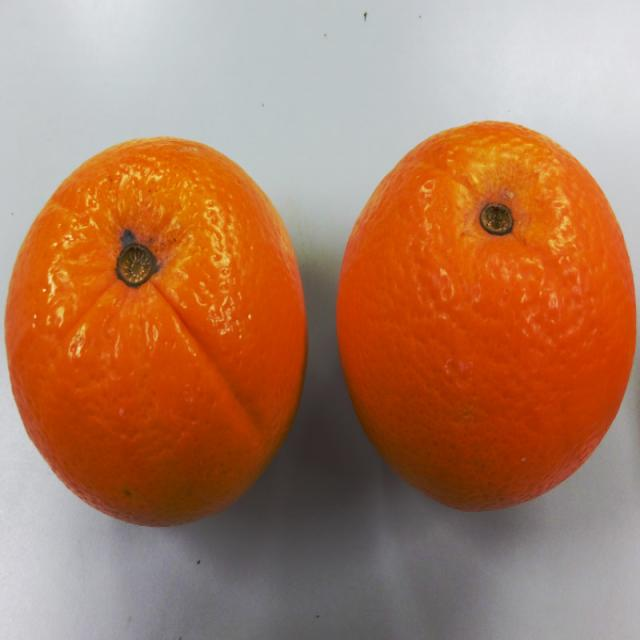Orange: (334, 122, 640, 507), (7, 139, 310, 523)
